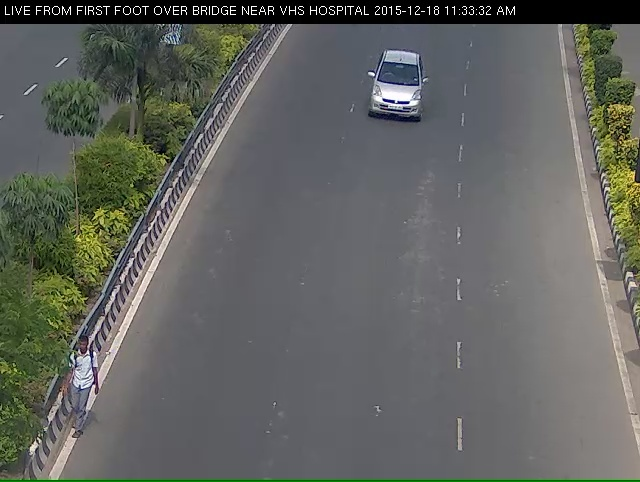Car: (353, 36, 444, 173)
Person: (57, 329, 106, 441)
